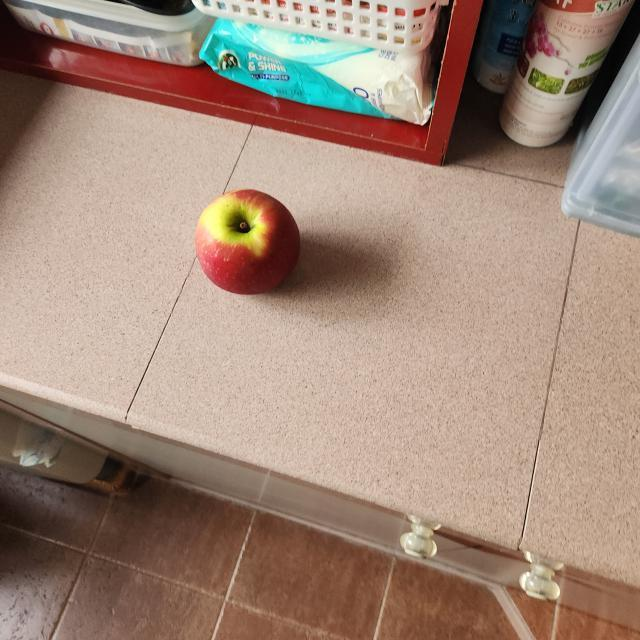apple: (186, 178, 306, 302)
